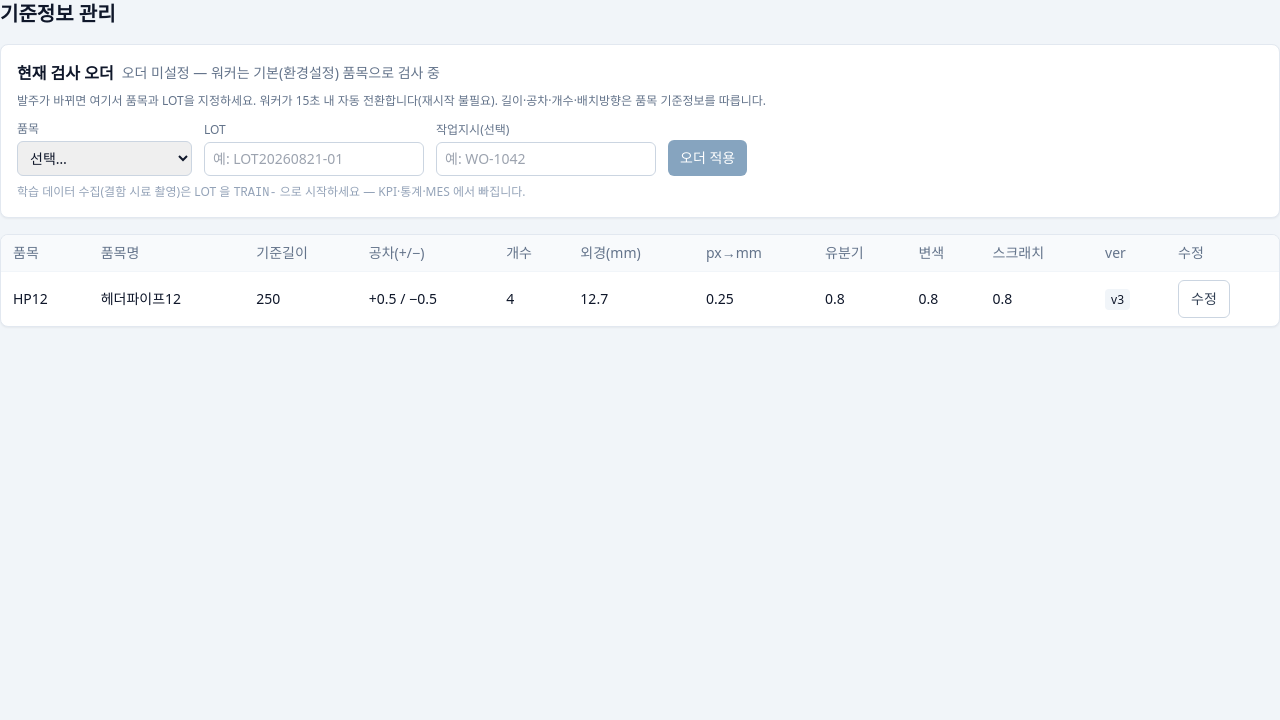
Test: MasterPage — 웹 캘리브레이션 › 보정 실패 시 에러 표시
Click the button with test id "edit-HP12": point(1204, 299) [1178,280,1230,318]
(page scrolled)
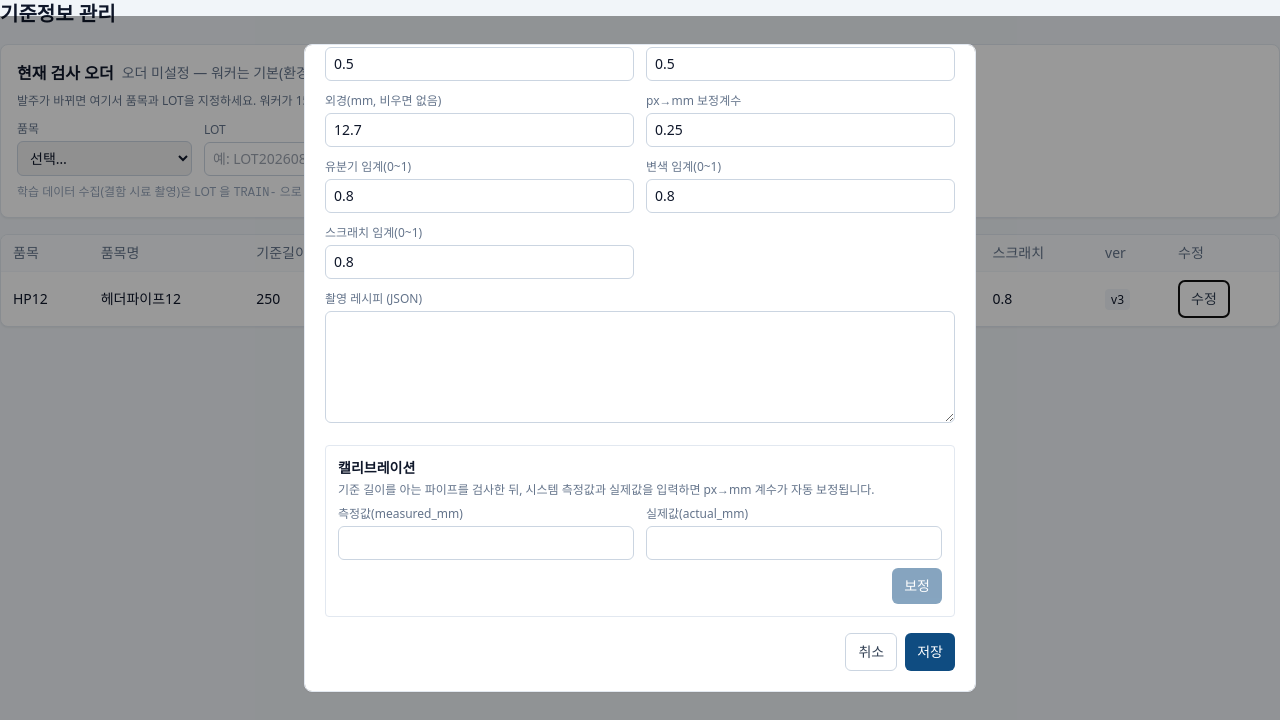
In the number field with test id "calib-measured": point(486, 543) [338,526,634,560], type "100"
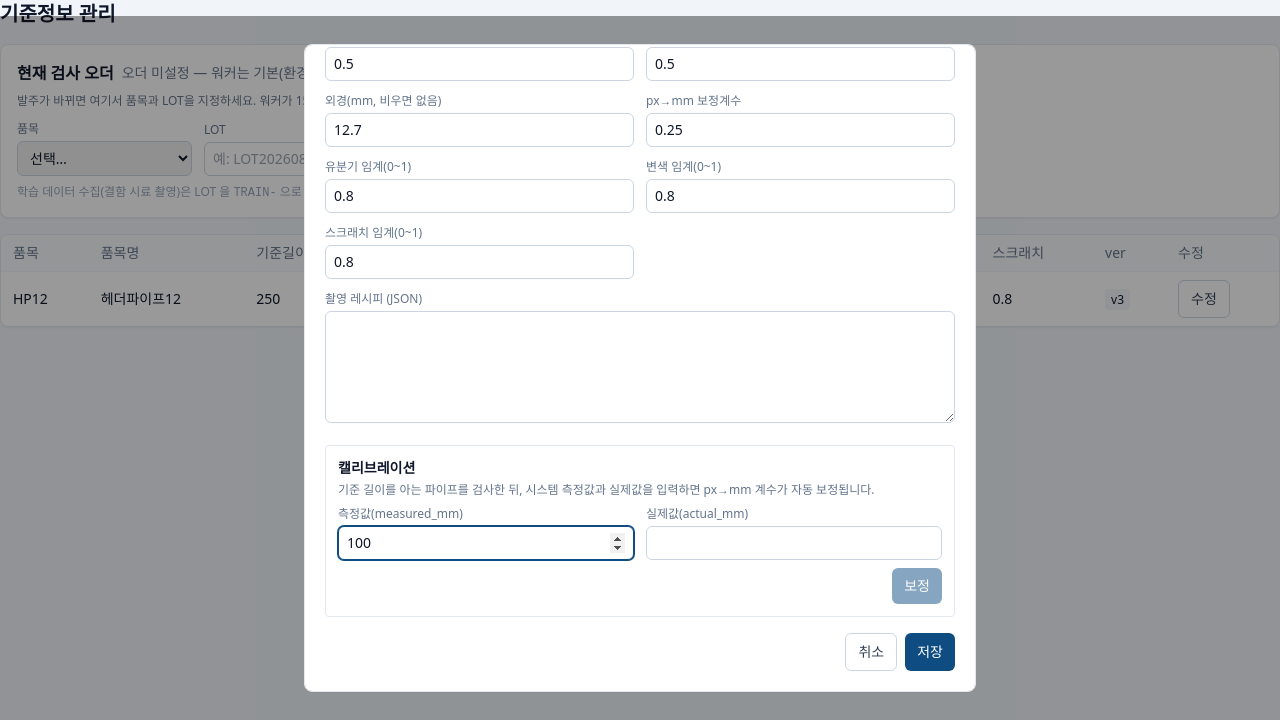
In the number field with test id "calib-actual": point(794, 543) [646,526,942,560], type "80"
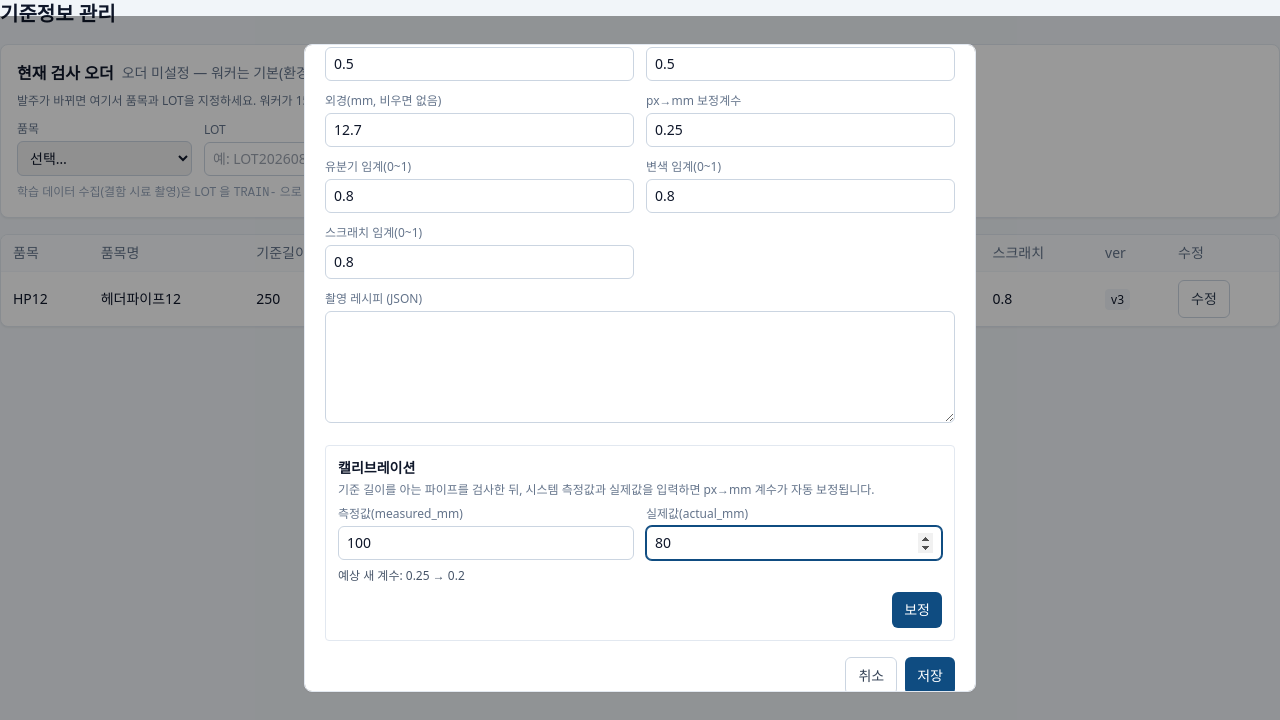
Click the button with test id "calib-submit": point(917, 610) [892,592,942,628]
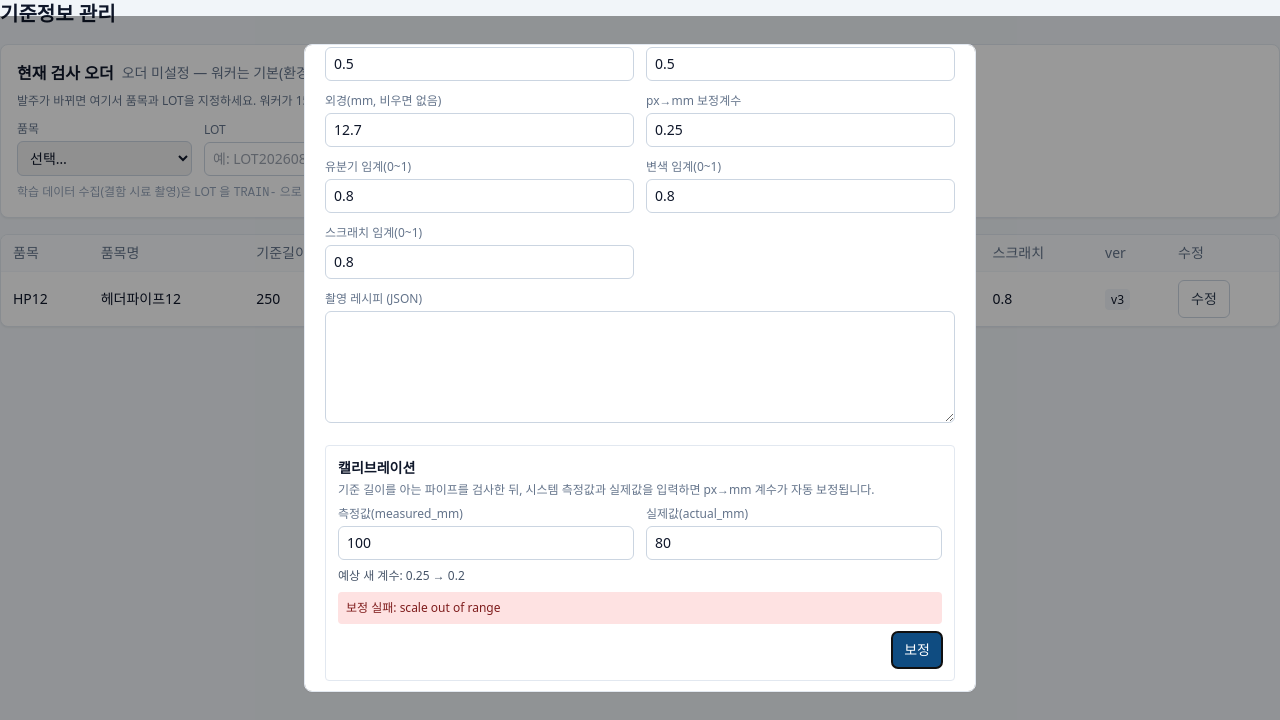
Check: the text with test id "calib-error" shows "scale out of range", box [400,599,500,616]
